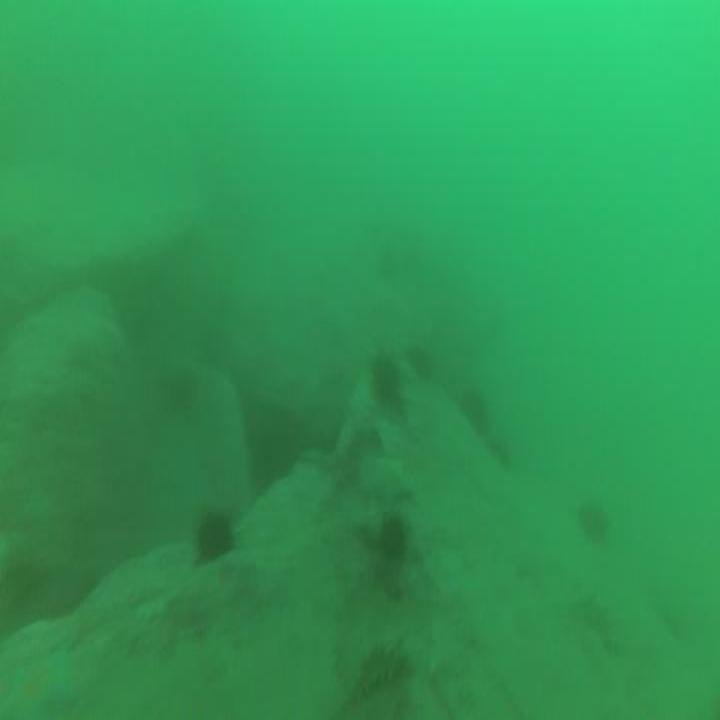echinus: (196, 512, 233, 562), (371, 354, 401, 404), (579, 496, 607, 542), (380, 516, 406, 560), (460, 389, 486, 432), (413, 345, 428, 379)
holothurian: (346, 642, 409, 702)
